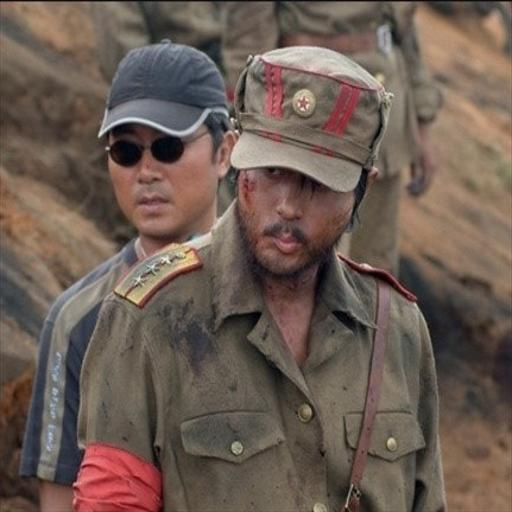north army: (215, 41, 434, 512)
